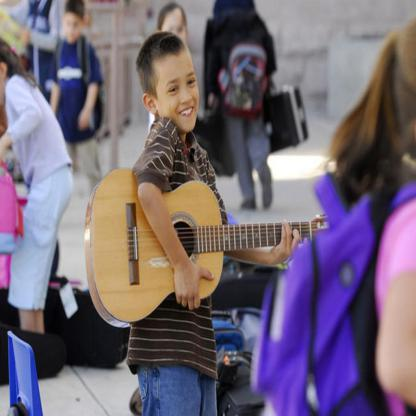face: (156, 59, 200, 133), (162, 17, 187, 57), (65, 15, 83, 43)
